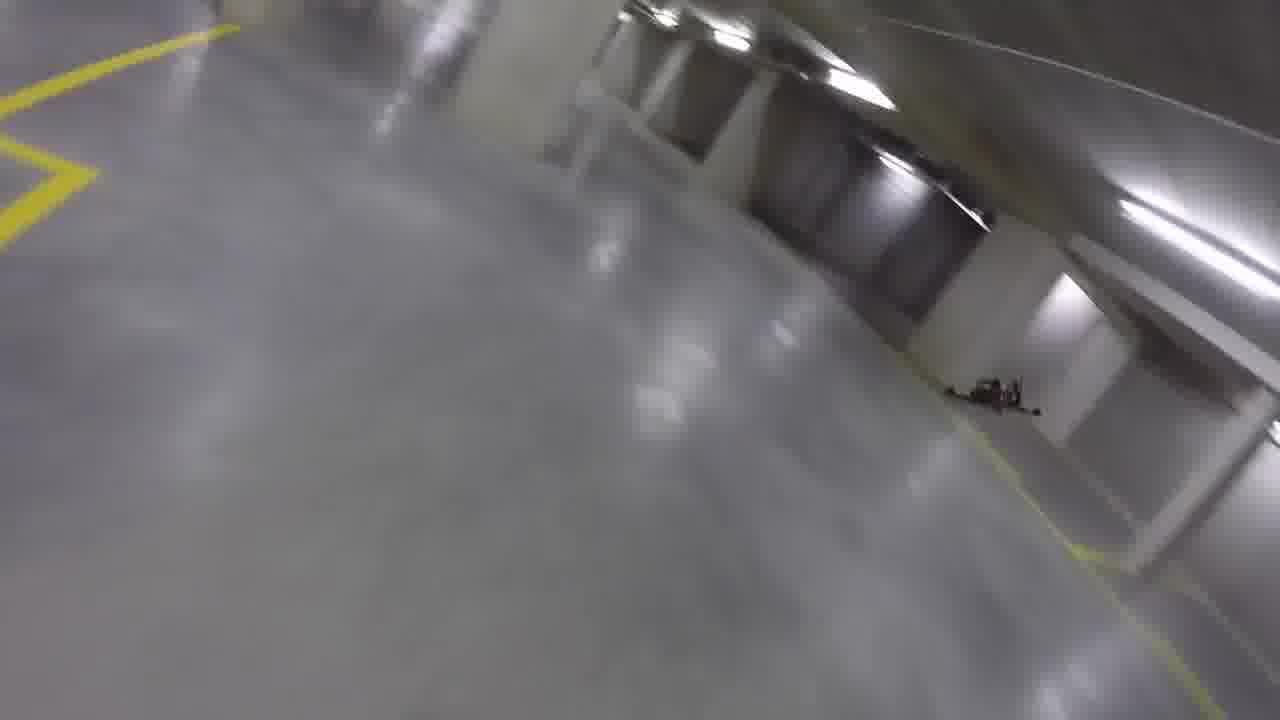drone: (942, 361, 1053, 430)
